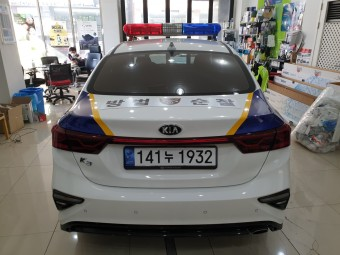car: (121, 145, 221, 170)
